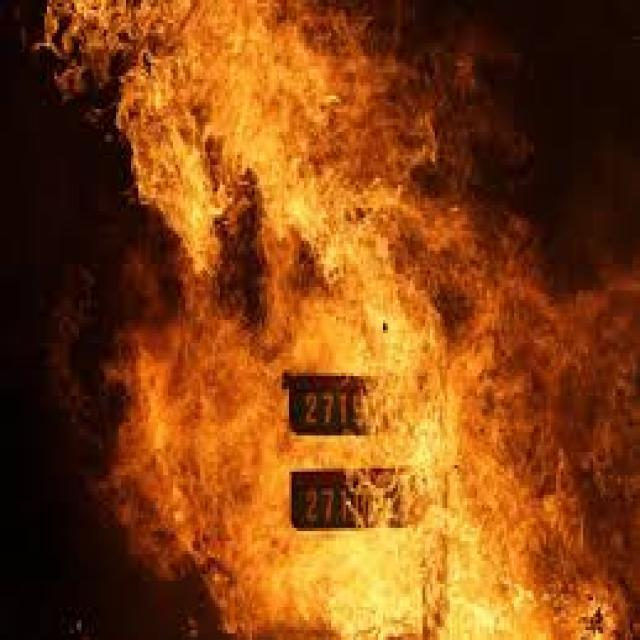Fire: (176, 257, 608, 628), (96, 4, 443, 236)
